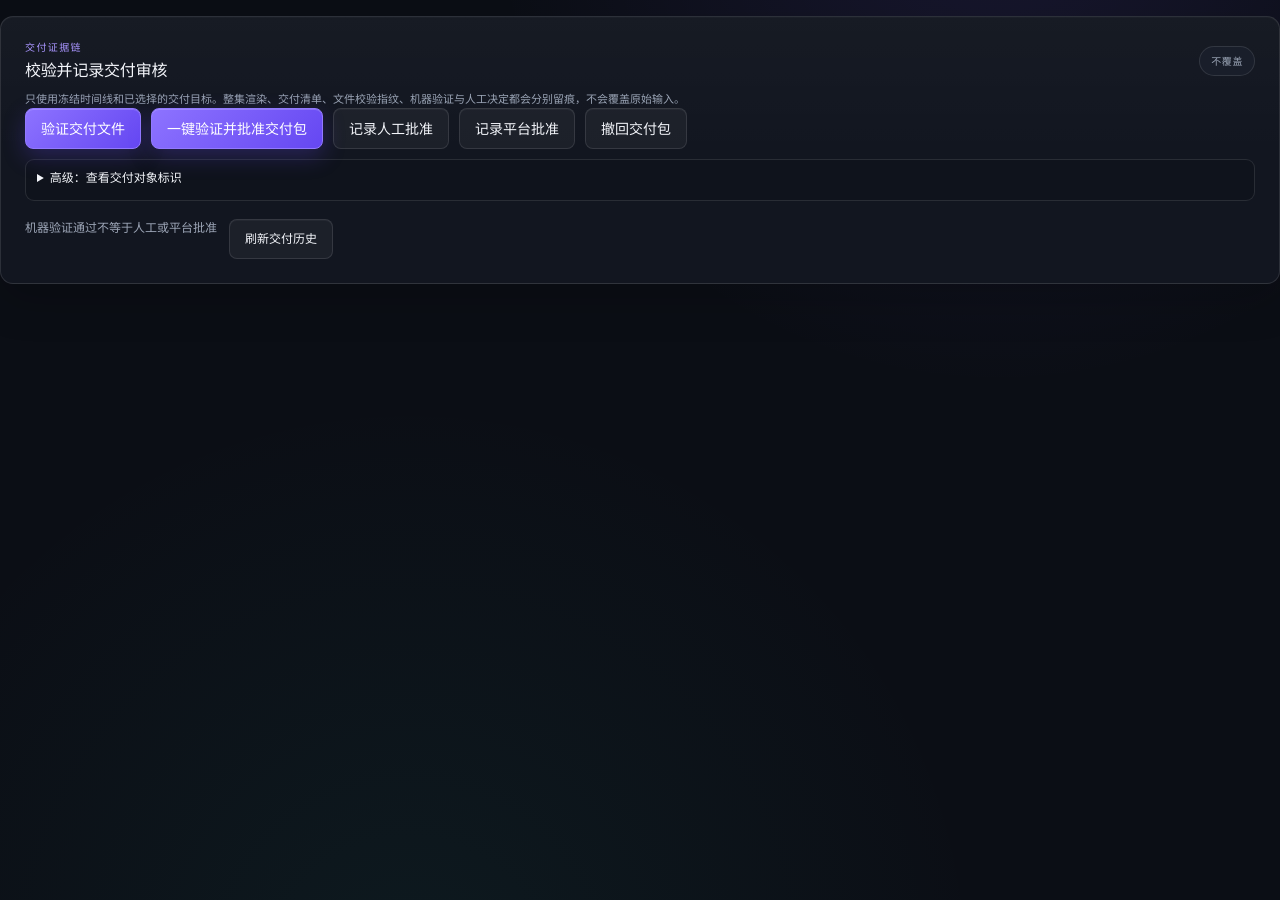
Test: DeliveryWorkflowPanel › reports verify success separately when one-click approval fails
Step 1. Click the button "一键验证并批准交付包" → {"x": 237, "y": 128}, box x1=151 y1=108 x2=323 y2=149
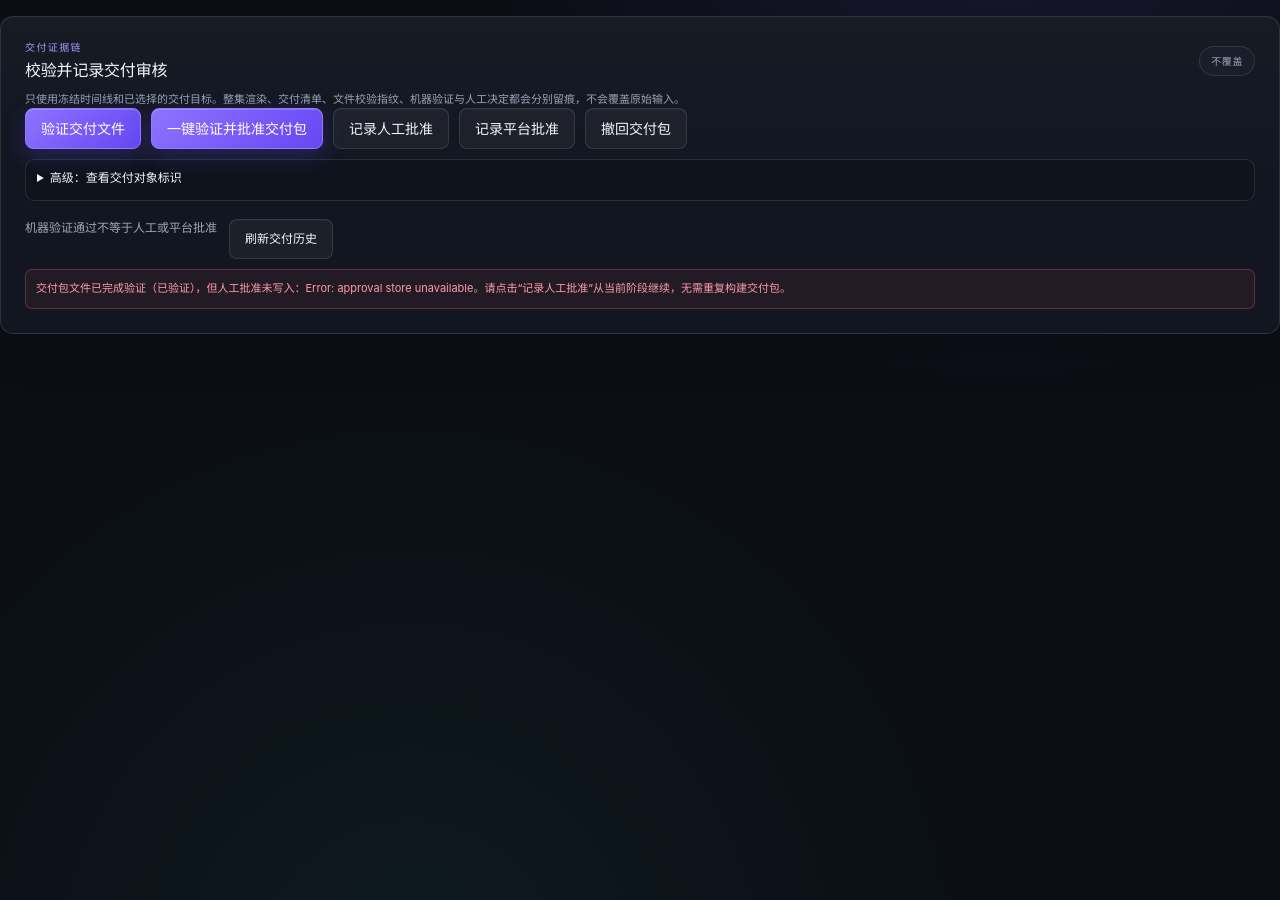
Expected: the button "记录人工批准" is shown, x1=333 y1=108 x2=449 y2=149
Now the message shows "交付包文件已完成验证（已验证）", box x1=36 y1=281 x2=791 y2=295
Now the message shows "记录人工批准", box x1=36 y1=281 x2=791 y2=295
